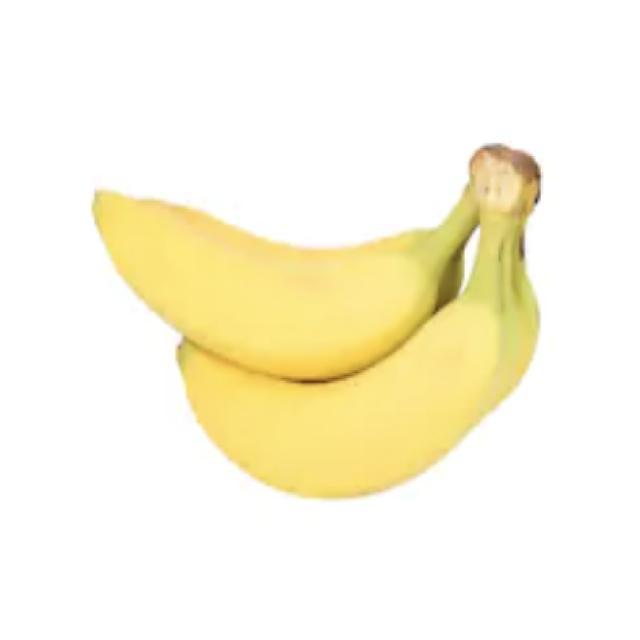Banana: (88, 133, 548, 505)
